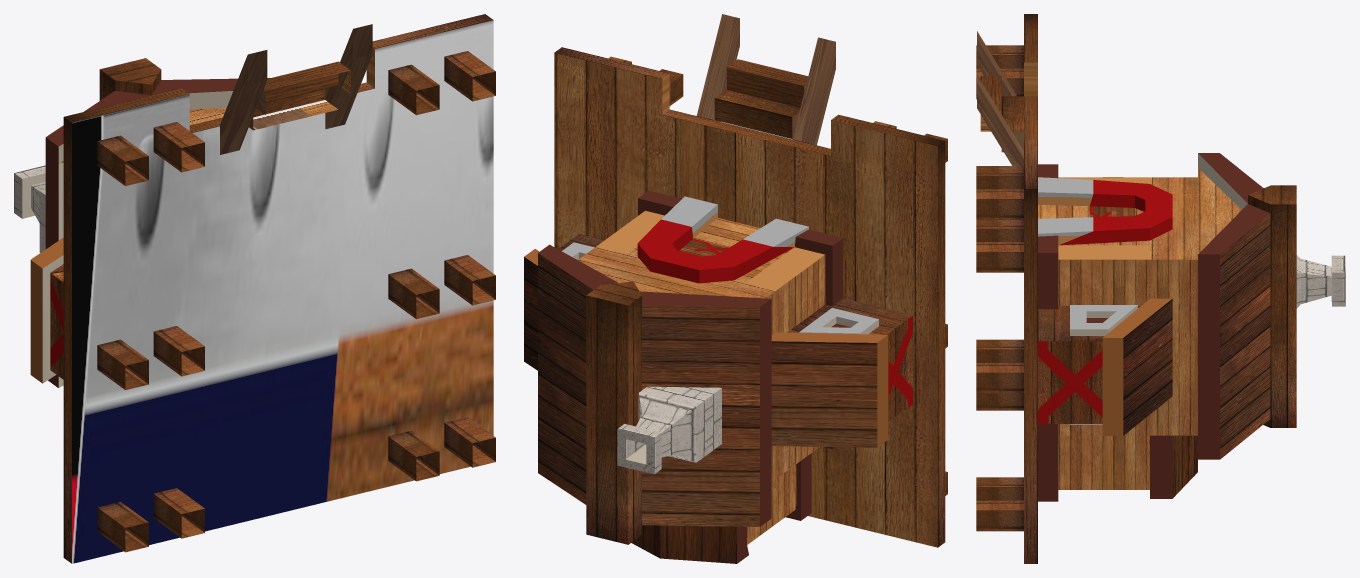
The model's file is nha viking.fbx.
The picture shows the model from 3 angles, left to right: view 1: azimuth 30°, elevation 25°; view 2: azimuth 150°, elevation 25°; view 3: azimuth 270°, elevation 25°; orthographic projection. The views are drawn at different scales.
Parts seen in each view (by area): view 1: nha_viking; view 2: nha_viking; view 3: nha_viking.
Part boxes in pixels (x1,y1,x2,y2): nha_viking: (14,14,495,563); nha_viking: (524,14,947,563); nha_viking: (976,14,1345,563).
Bounding box in the file's own units: 6.8 × 7.6 × 6.06.
Materials: 1 (1 with a texture image).
